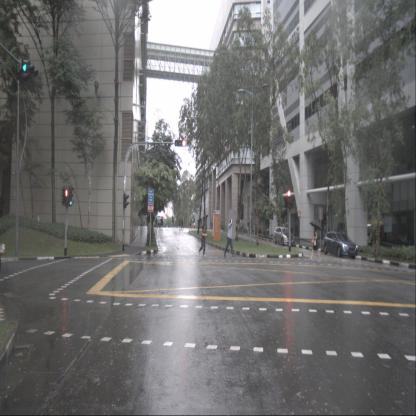human-pedestrian-adult: (308, 220, 323, 263), (224, 219, 235, 257), (198, 224, 207, 257), (322, 224, 326, 246), (246, 218, 250, 232), (178, 217, 181, 231), (189, 220, 192, 232), (157, 217, 160, 229), (250, 221, 253, 233), (235, 222, 238, 233), (156, 218, 158, 230), (160, 218, 162, 230), (162, 218, 164, 230), (181, 219, 183, 228)
vehicle-car: (322, 231, 358, 259), (273, 226, 295, 247)
